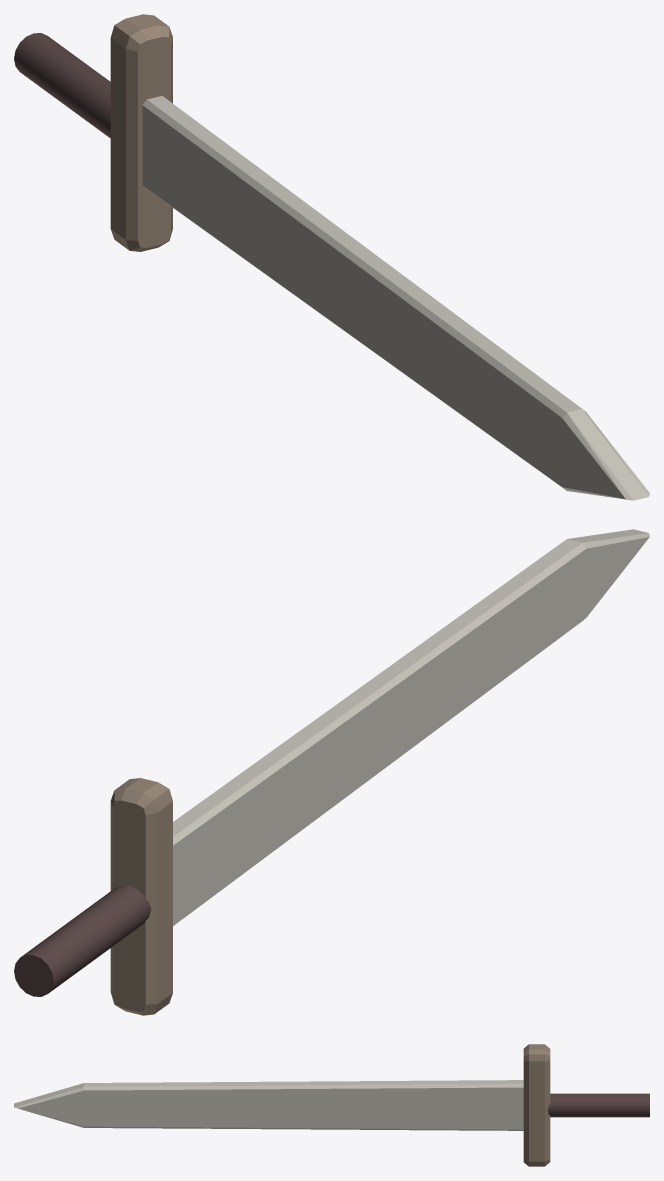
Rendered from espada_esqueleto.glb.
The picture shows the model from 3 angles, top to bottom: view 1: azimuth 30°, elevation 25°; view 2: azimuth 150°, elevation 25°; view 3: azimuth 270°, elevation 25°; orthographic projection. The views are drawn at different scales.
Visible parts, largest first — view 1: Espada_Esqueleto; view 2: Espada_Esqueleto; view 3: Espada_Esqueleto.
Part boxes in pixels (x1,y1,x2,y2): Espada_Esqueleto: (14, 14, 649, 500); Espada_Esqueleto: (14, 529, 649, 1015); Espada_Esqueleto: (14, 1044, 649, 1166).
Bounding box in the file's own units: 0.0428 × 0.1928 × 0.9557.
